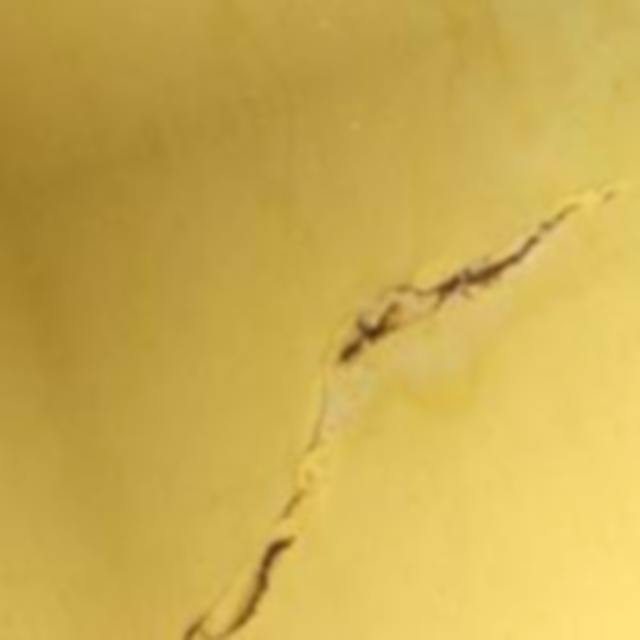SurfaceCrack: (124, 186, 578, 640)
